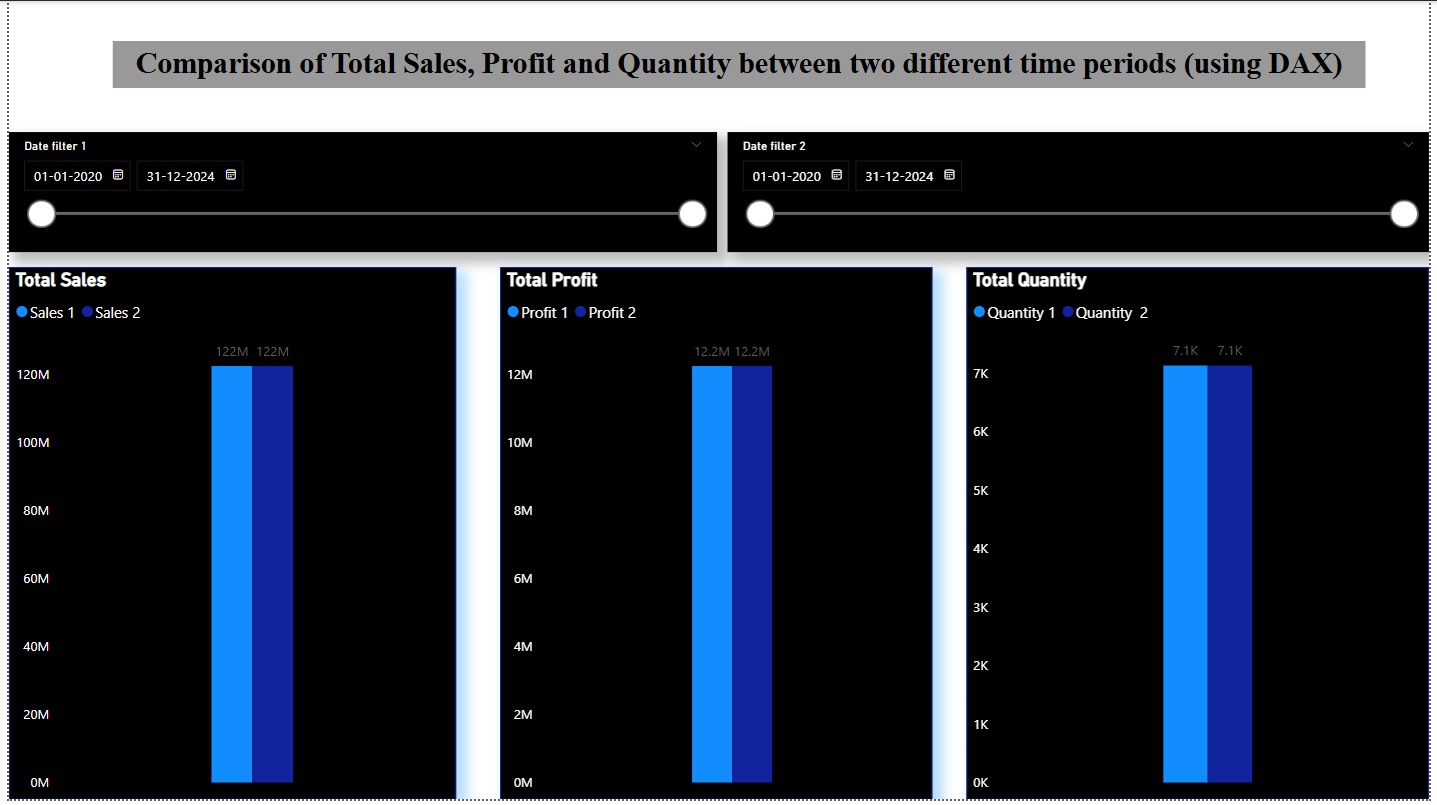

Layout of this report page (visuals, bound fields, positions):
{"tool":"powerbi","page":{"name":"Total Sales/Profit/Quantity b/w two different time periods","canvas":[1280,720],"ordinal":3},"visuals":[{"type":"clusteredColumnChart","title":"Total Sales","fields":{"Y":["Sum(Fact table.Net Sales)","date table 1.Sum of net sales"]},"box":[0,240.1,403,480.2],"z":0},{"type":"slicer","fields":{"Values":["date table 1.Date"]},"box":[0,118.2,638.2,108.2],"z":1000},{"type":"slicer","fields":{"Values":["date table 2.Date"]},"box":[648.1,118.2,631.9,108.2],"z":2000},{"type":"clusteredColumnChart","title":"Total Profit","fields":{"Y":["Sum(Fact table.Profit)","measures table.sum of profit"]},"box":[442.8,240.1,389.4,480.2],"z":3000},{"type":"clusteredColumnChart","title":"Total Quantity","fields":{"Y":["Sum(Fact table.Units Sold)","measures table.sum of qty"]},"box":[863.3,240.1,416.7,480.2],"z":4000},{"type":"textbox","box":[93.3,36.1,1129.5,42.3],"z":4001}]}

Visuals, with their boxes in screenshot pixels (x1, y1, x2, y2), scaled from the page's 1280x720 canvas onto the 1437x805 screenshot:
"Total Sales" clusteredColumnChart: select_region(0, 268, 452, 804)
slicer - date table 1.Date: select_region(0, 132, 716, 253)
slicer - date table 2.Date: select_region(728, 132, 1436, 253)
"Total Profit" clusteredColumnChart: select_region(497, 268, 934, 804)
"Total Quantity" clusteredColumnChart: select_region(969, 268, 1436, 804)
textbox: select_region(105, 40, 1373, 88)
